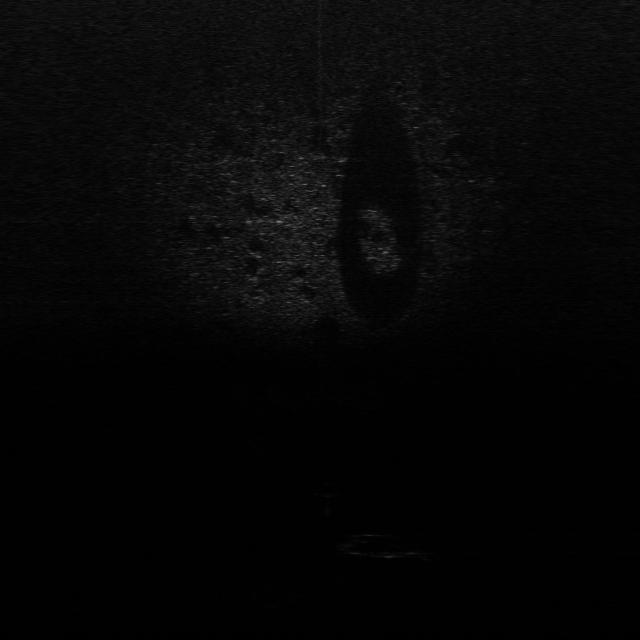ball: (312, 479, 343, 499)
tyre: (336, 532, 433, 560)
